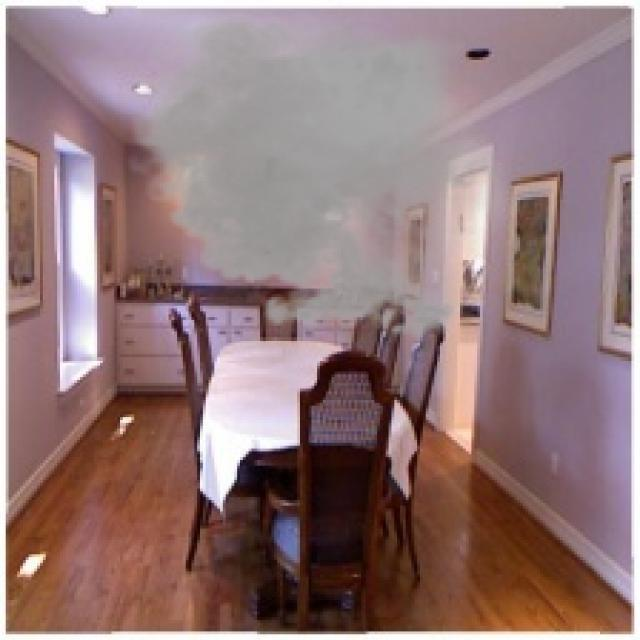Smoke: (117, 2, 520, 348)
